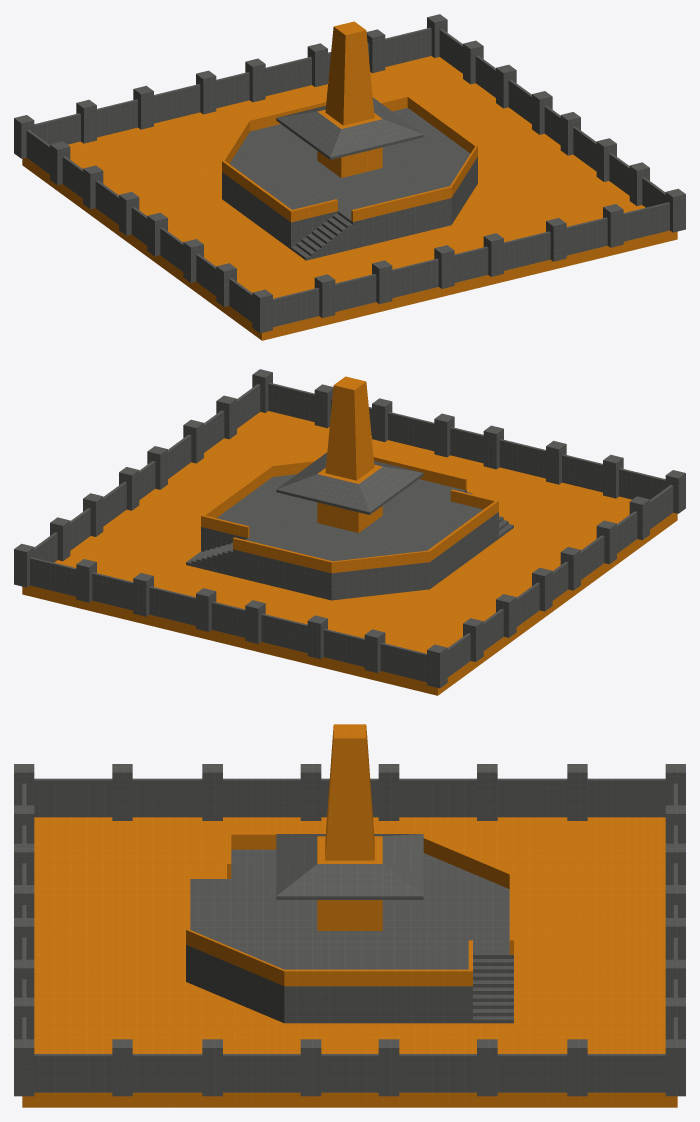
The model's file is Lighthouse_map.glb.
3 renders of one model, top to bottom at view 1: azimuth 30°, elevation 25°; view 2: azimuth 150°, elevation 25°; view 3: azimuth 270°, elevation 25°, orthographic. The views are drawn at different scales.
Visible parts, largest first — view 1: worldspawn_1_2, worldspawn_1_906, worldspawn_1_911, worldspawn_1_649, worldspawn_1_342, worldspawn_1_902, worldspawn_1_904, worldspawn_1_62, worldspawn_1_339, worldspawn_1_651, worldspawn_1_52, worldspawn_1_850 (+35 smaller); view 2: worldspawn_1_2, worldspawn_1_911, worldspawn_1_906, worldspawn_1_649, worldspawn_1_342, worldspawn_1_902, worldspawn_1_904, worldspawn_1_62, worldspawn_1_648, worldspawn_1_651, worldspawn_1_52, worldspawn_1_848 (+37 smaller); view 3: worldspawn_1_2, worldspawn_1_904, worldspawn_1_902, worldspawn_1_649, worldspawn_1_651, worldspawn_1_62, worldspawn_1_339, worldspawn_1_843, worldspawn_1_648, worldspawn_1_52, worldspawn_1_662, worldspawn_1_342 (+37 smaller).
Boxes of the visible parts, bbox=[...] form: worldspawn_1_2: bbox=[22, 56, 677, 340]; worldspawn_1_906: bbox=[273, 202, 669, 327]; worldspawn_1_911: bbox=[34, 27, 431, 144]; worldspawn_1_649: bbox=[248, 134, 451, 210]; worldspawn_1_342: bbox=[222, 142, 337, 249]; worldspawn_1_902: bbox=[26, 130, 252, 322]; worldspawn_1_904: bbox=[439, 29, 665, 207]; worldspawn_1_62: bbox=[325, 21, 374, 125]; worldspawn_1_339: bbox=[338, 181, 462, 248]; worldspawn_1_651: bbox=[392, 107, 477, 206]; worldspawn_1_52: bbox=[317, 109, 382, 177]; worldspawn_1_850: bbox=[351, 186, 451, 221]; worldspawn_1_2: bbox=[22, 411, 677, 695]; worldspawn_1_911: bbox=[30, 557, 426, 682]; worldspawn_1_906: bbox=[268, 382, 665, 499]; worldspawn_1_649: bbox=[248, 489, 450, 560]; worldspawn_1_342: bbox=[356, 501, 498, 597]; worldspawn_1_902: bbox=[447, 485, 673, 677]; worldspawn_1_904: bbox=[34, 384, 260, 562]; worldspawn_1_62: bbox=[325, 376, 374, 480]; worldspawn_1_648: bbox=[233, 538, 355, 600]; worldspawn_1_651: bbox=[201, 474, 301, 551]; worldspawn_1_52: bbox=[317, 464, 382, 532]; worldspawn_1_848: bbox=[233, 537, 332, 573]; worldspawn_1_2: bbox=[22, 817, 677, 1107]; worldspawn_1_904: bbox=[34, 1054, 665, 1092]; worldspawn_1_902: bbox=[34, 778, 665, 817]; worldspawn_1_649: bbox=[227, 879, 472, 954]; worldspawn_1_651: bbox=[227, 955, 472, 1023]; worldspawn_1_62: bbox=[325, 724, 374, 860]; worldspawn_1_339: bbox=[186, 879, 226, 998]; worldspawn_1_843: bbox=[285, 969, 468, 986]; worldspawn_1_648: bbox=[473, 879, 513, 958]; worldspawn_1_52: bbox=[317, 836, 382, 930]; worldspawn_1_662: bbox=[317, 864, 382, 899]; worldspawn_1_342: bbox=[231, 849, 484, 878].
Size of the model in its own units: 13.12 by 5.12 by 13.12.
2 materials, 2 textured.
